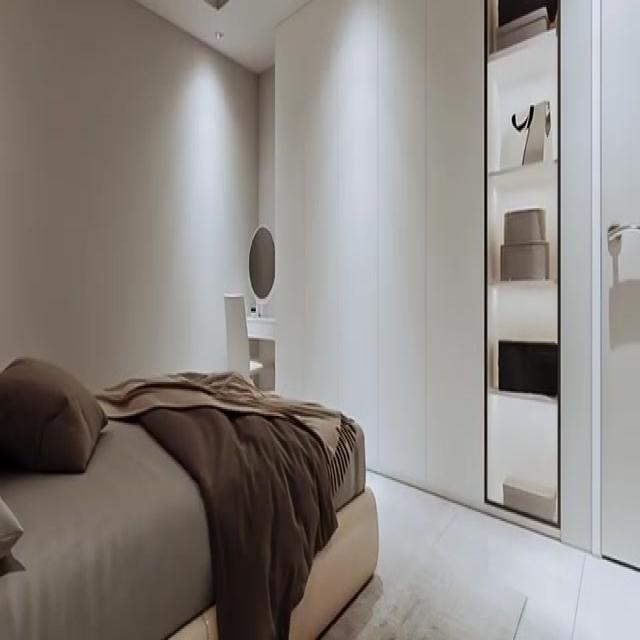door: (600, 3, 640, 569)
obstacle: (0, 368, 379, 638), (223, 294, 263, 388)
